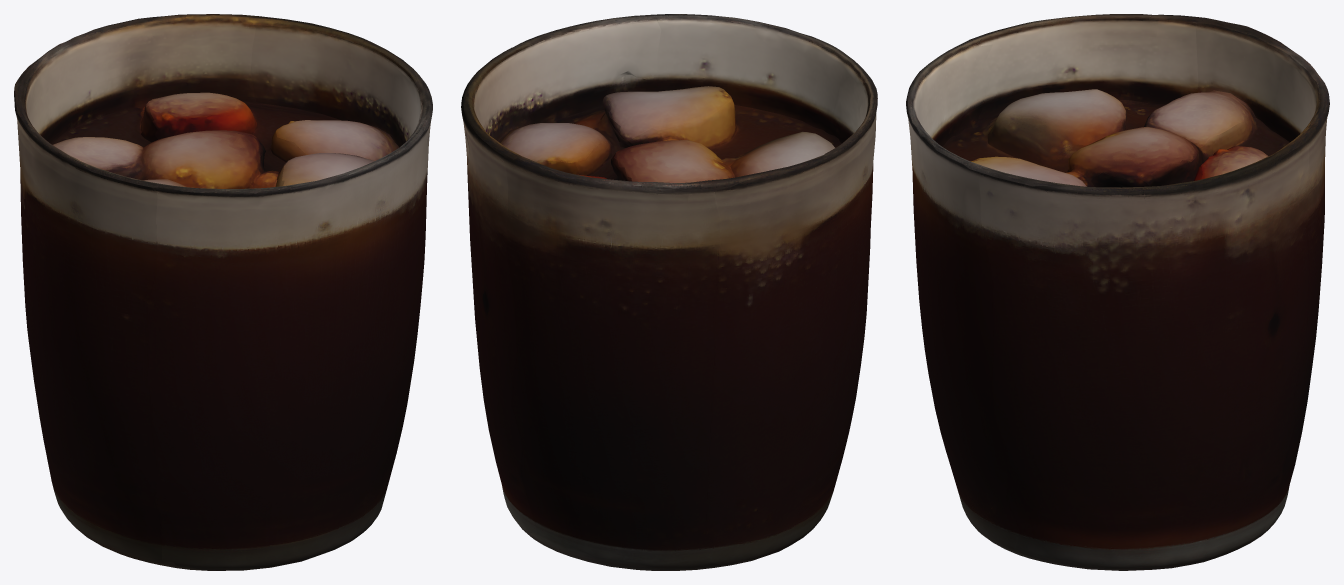
File: item-3d-419f57ff-13e3-446b-8d6b-a9385927d7f1.glb
3 views of the same model, side by side, from view 1: azimuth 30°, elevation 25°; view 2: azimuth 150°, elevation 25°; view 3: azimuth 270°, elevation 25° (orthographic).
Parts seen in each view (by area): view 1: world; view 2: world; view 3: world.
Part boxes in pixels (left/top/right/bottom): world: left=14, top=14, right=432, bottom=570; world: left=461, top=14, right=877, bottom=570; world: left=906, top=14, right=1329, bottom=570.
Bounding box in the file's own units: 0.5129 × 0.5619 × 0.5233.
Materials: 1 (1 with a texture image).
